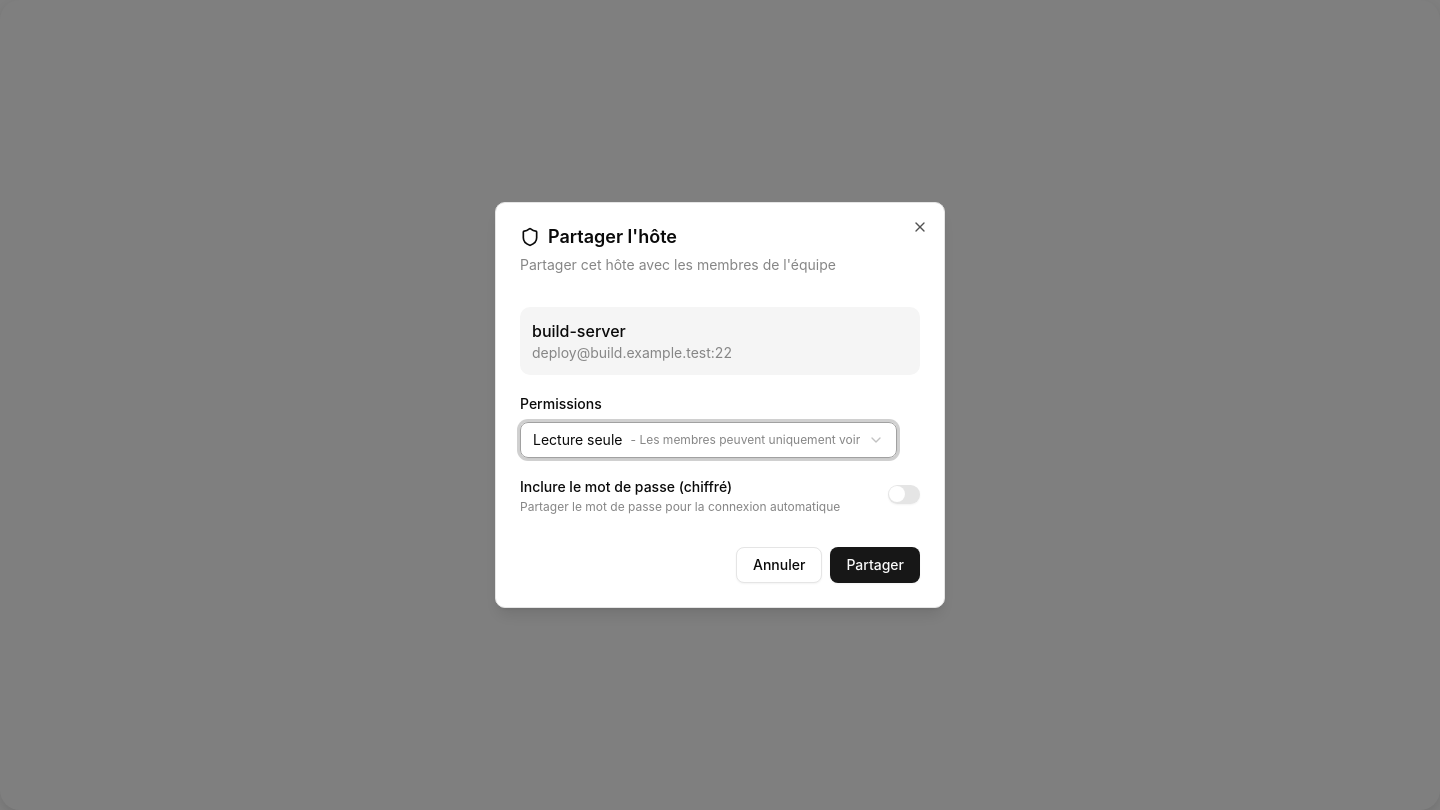
Test: ShareHostDialog security copy › renders every security notice from the active locale
The image size is (1440, 810).
Check: the text "Partager le mot de passe pour la connexion automatique" is shown, box [520, 499, 840, 515]
Step 1. Click the switch with id "include-password" → x=904, y=494, box [888, 485, 920, 504]
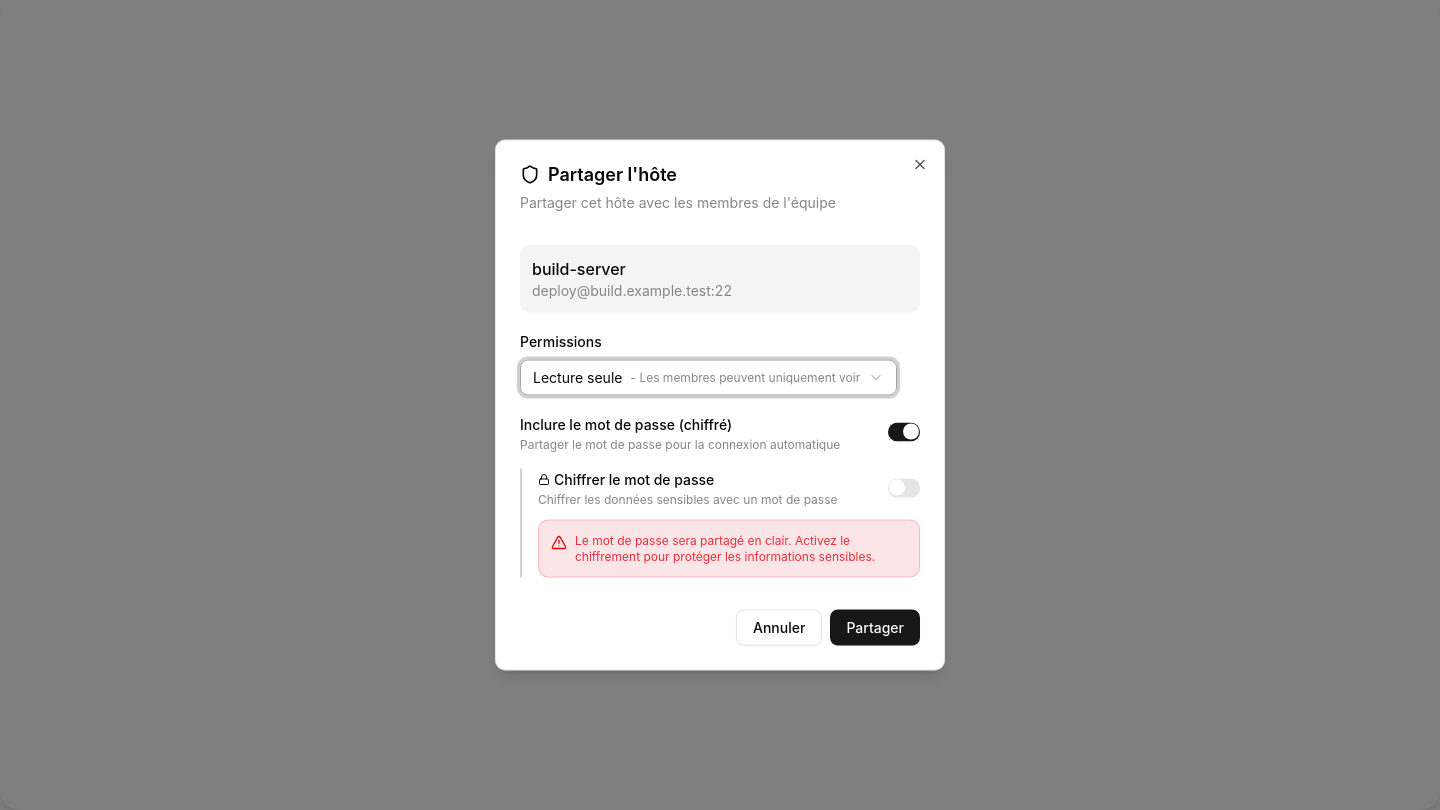
Check: the text "Chiffrer les données sensibles avec un mot de passe" is shown, box [538, 492, 838, 508]
Check: the text "Le mot de passe sera partagé en clair. Activez le chiffrement pour protéger les informations sensibles." is shown, box [575, 532, 875, 564]
Step 2. Click the switch with id "encrypt-password" → x=904, y=488, box [888, 479, 920, 497]
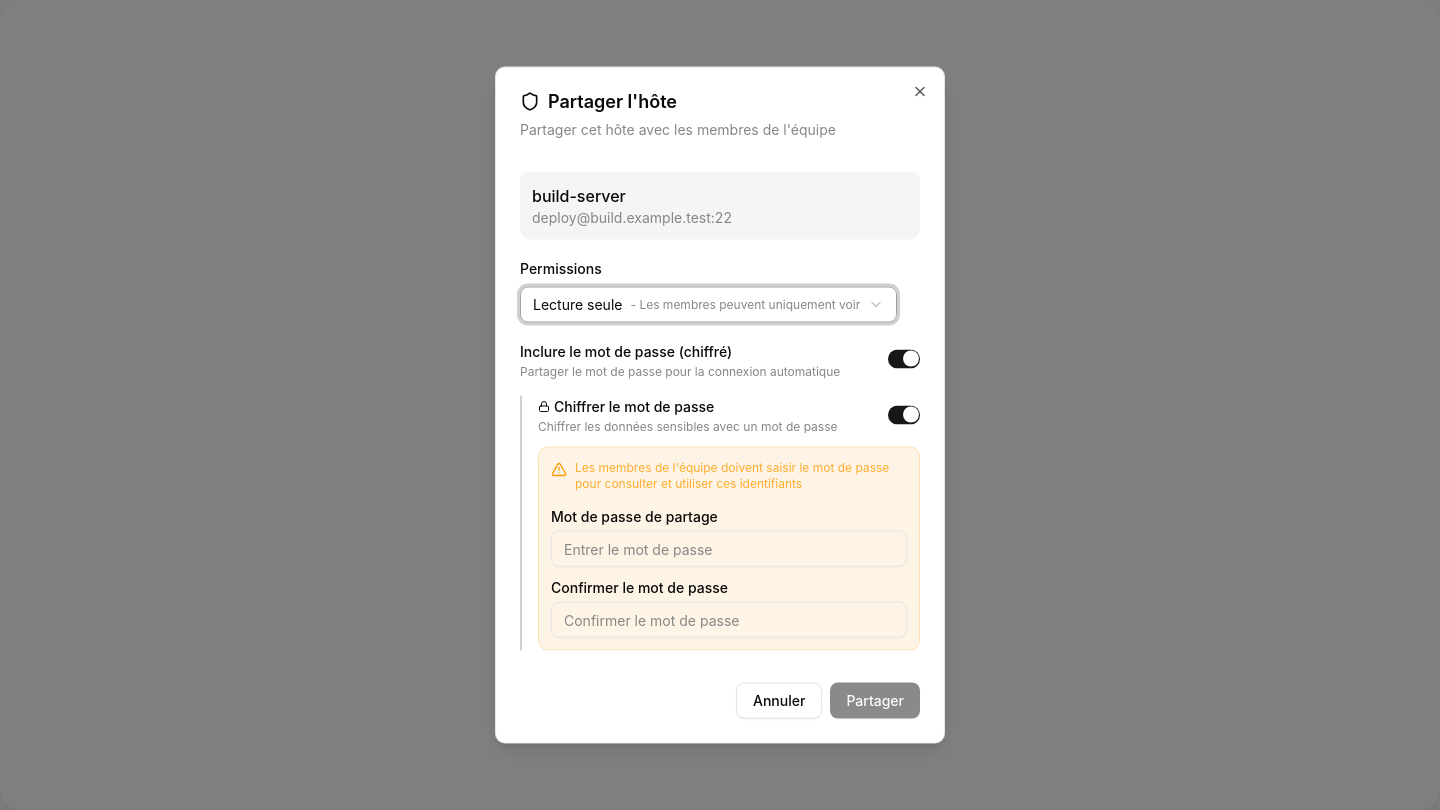
Check: the text "Les membres de l'équipe doivent saisir le mot de passe pour consulter et utiliser ces identifiants" is shown, box [575, 460, 889, 490]
